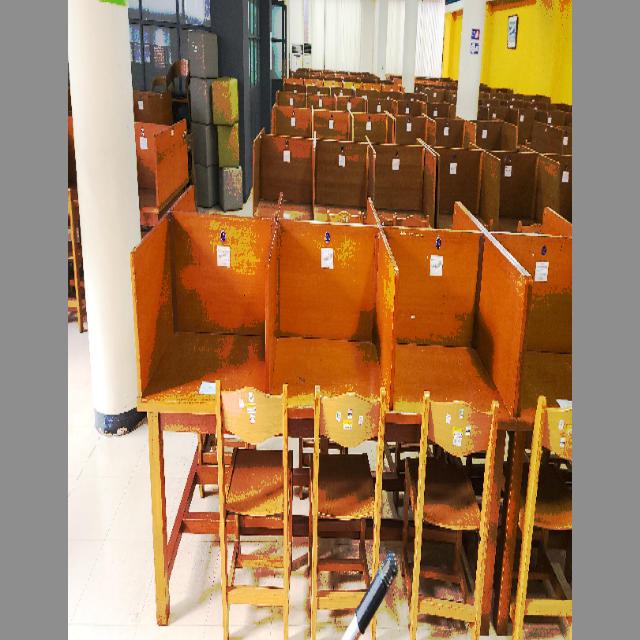empty: (127, 227, 267, 512), (403, 240, 516, 516), (272, 240, 393, 488)
